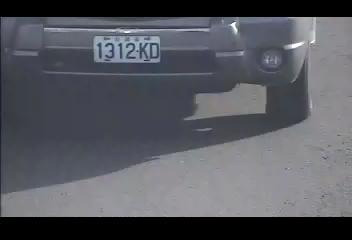plate: (91, 33, 163, 64)
